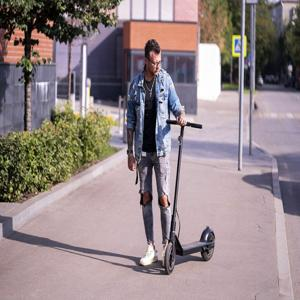human on a scooter: (125, 37, 217, 276)
